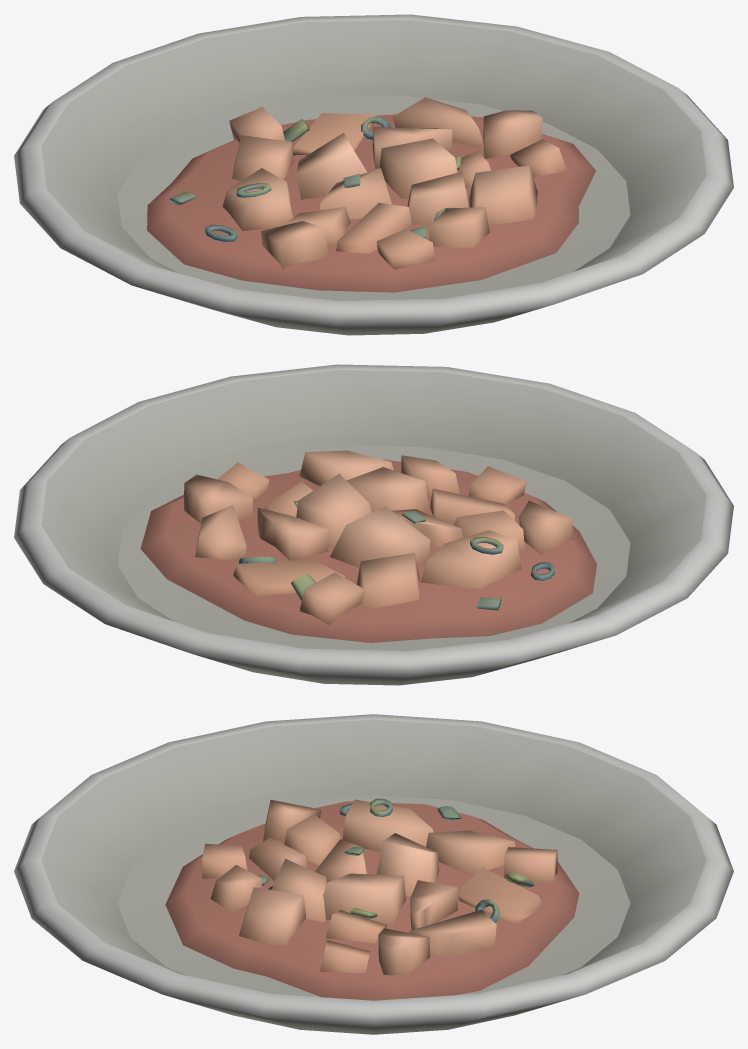
The model's file is sad_soup.glb.
The picture shows the model from 3 angles, top to bottom: view 1: azimuth 30°, elevation 25°; view 2: azimuth 150°, elevation 25°; view 3: azimuth 270°, elevation 25°; orthographic projection.
Visible parts, largest first — view 1: SM_Dish_A.013, SM_Food_Chicken_01; view 2: SM_Dish_A.013, SM_Food_Chicken_01; view 3: SM_Dish_A.013, SM_Food_Chicken_01.
Part boxes in pixels (<box>): SM_Dish_A.013: <box>14,14,733,335</box>; SM_Food_Chicken_01: <box>147,97,595,292</box>; SM_Dish_A.013: <box>14,364,733,685</box>; SM_Food_Chicken_01: <box>140,450,596,642</box>; SM_Dish_A.013: <box>14,714,733,1034</box>; SM_Food_Chicken_01: <box>165,798,579,1000</box>.
Bounding box in the file's own units: 0.7473 × 0.0969 × 0.7473.
Materials: 1 (1 with a texture image).
